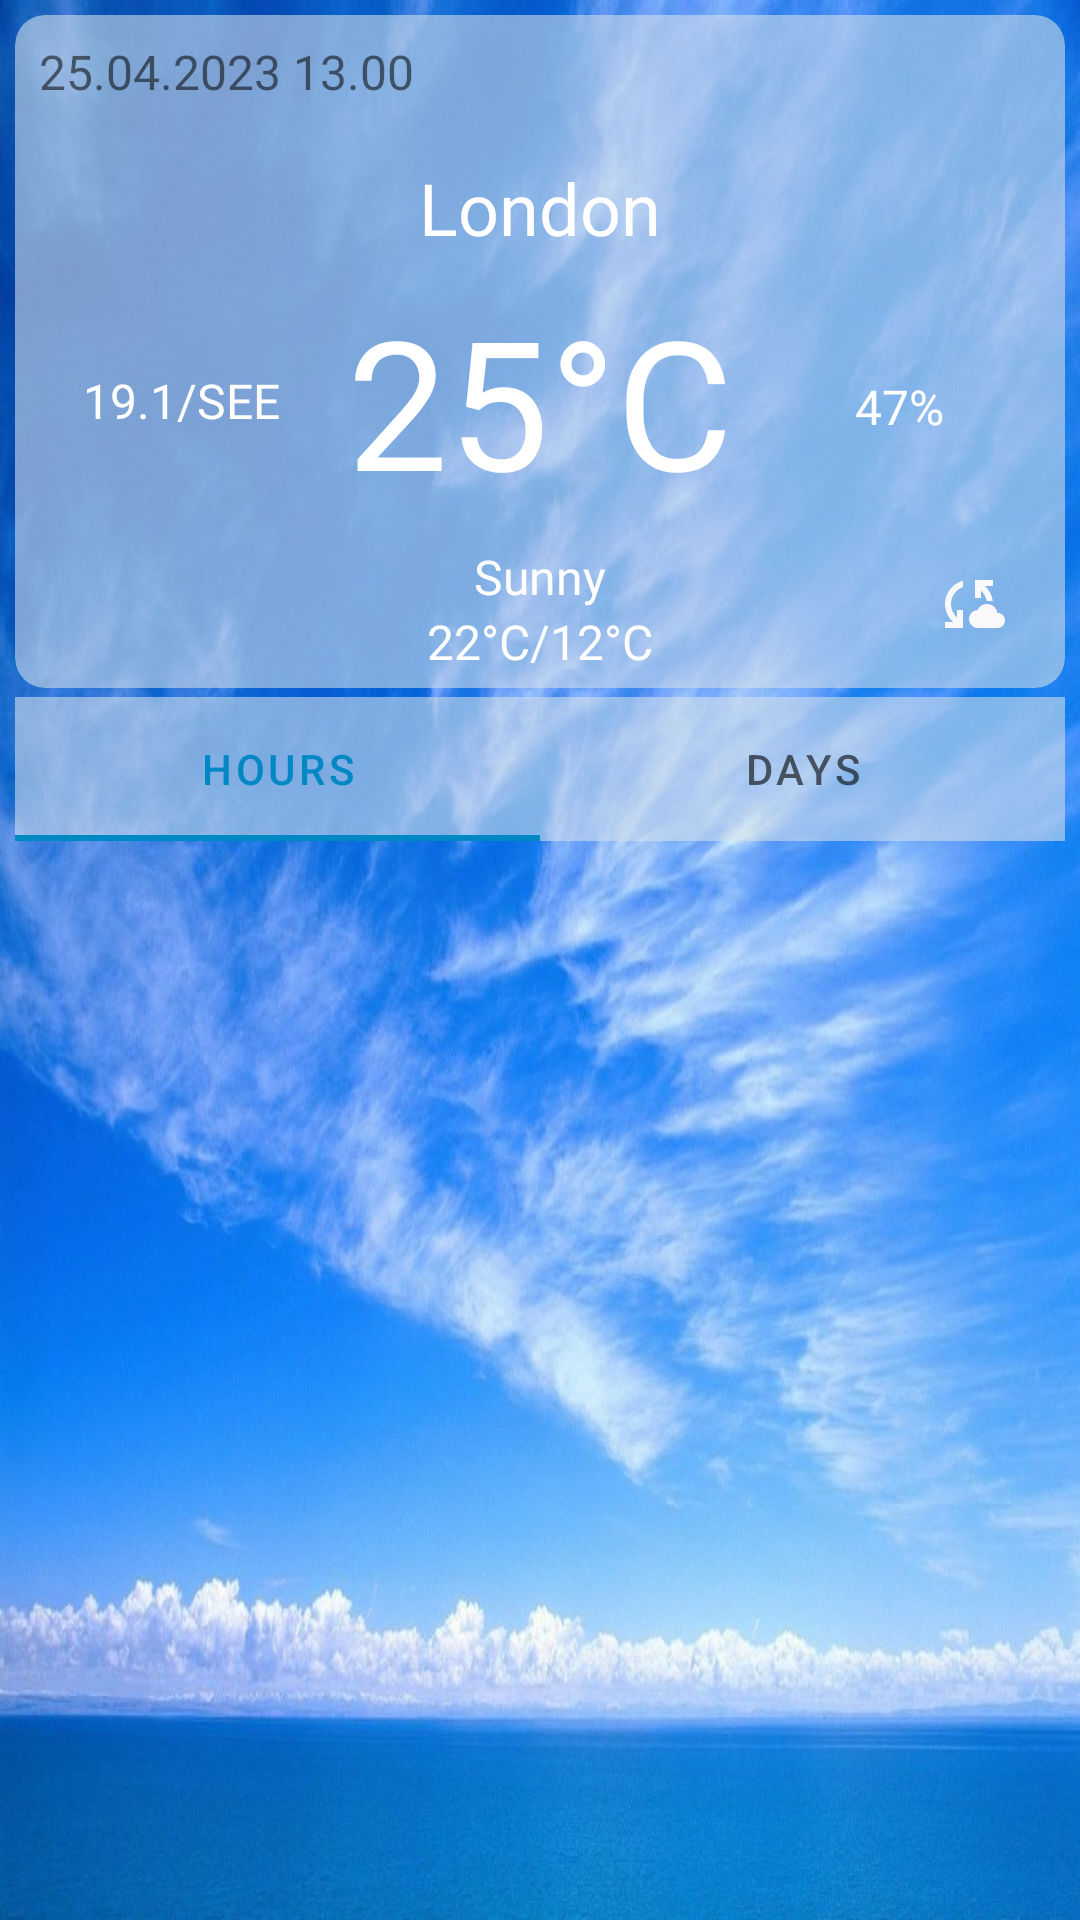

Where icons sit on this 1080x1920 app screen, as (x1, y1, x2, y2):
sync: (945, 580, 1005, 628)
